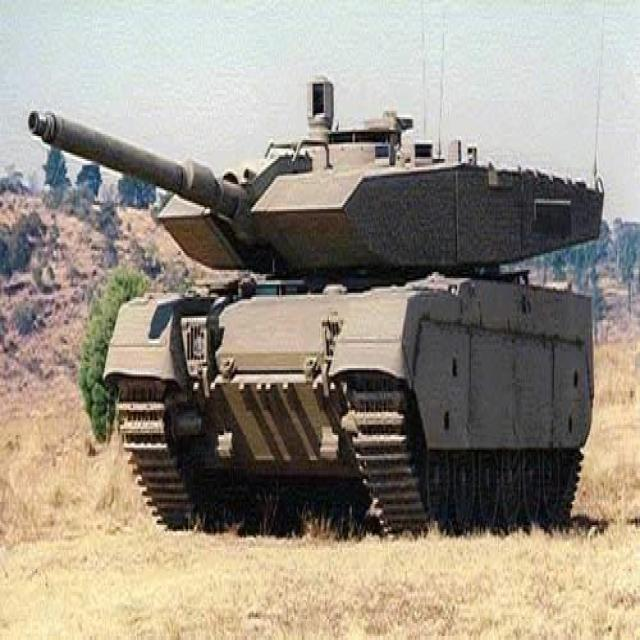Tanks: (20, 66, 619, 559)
